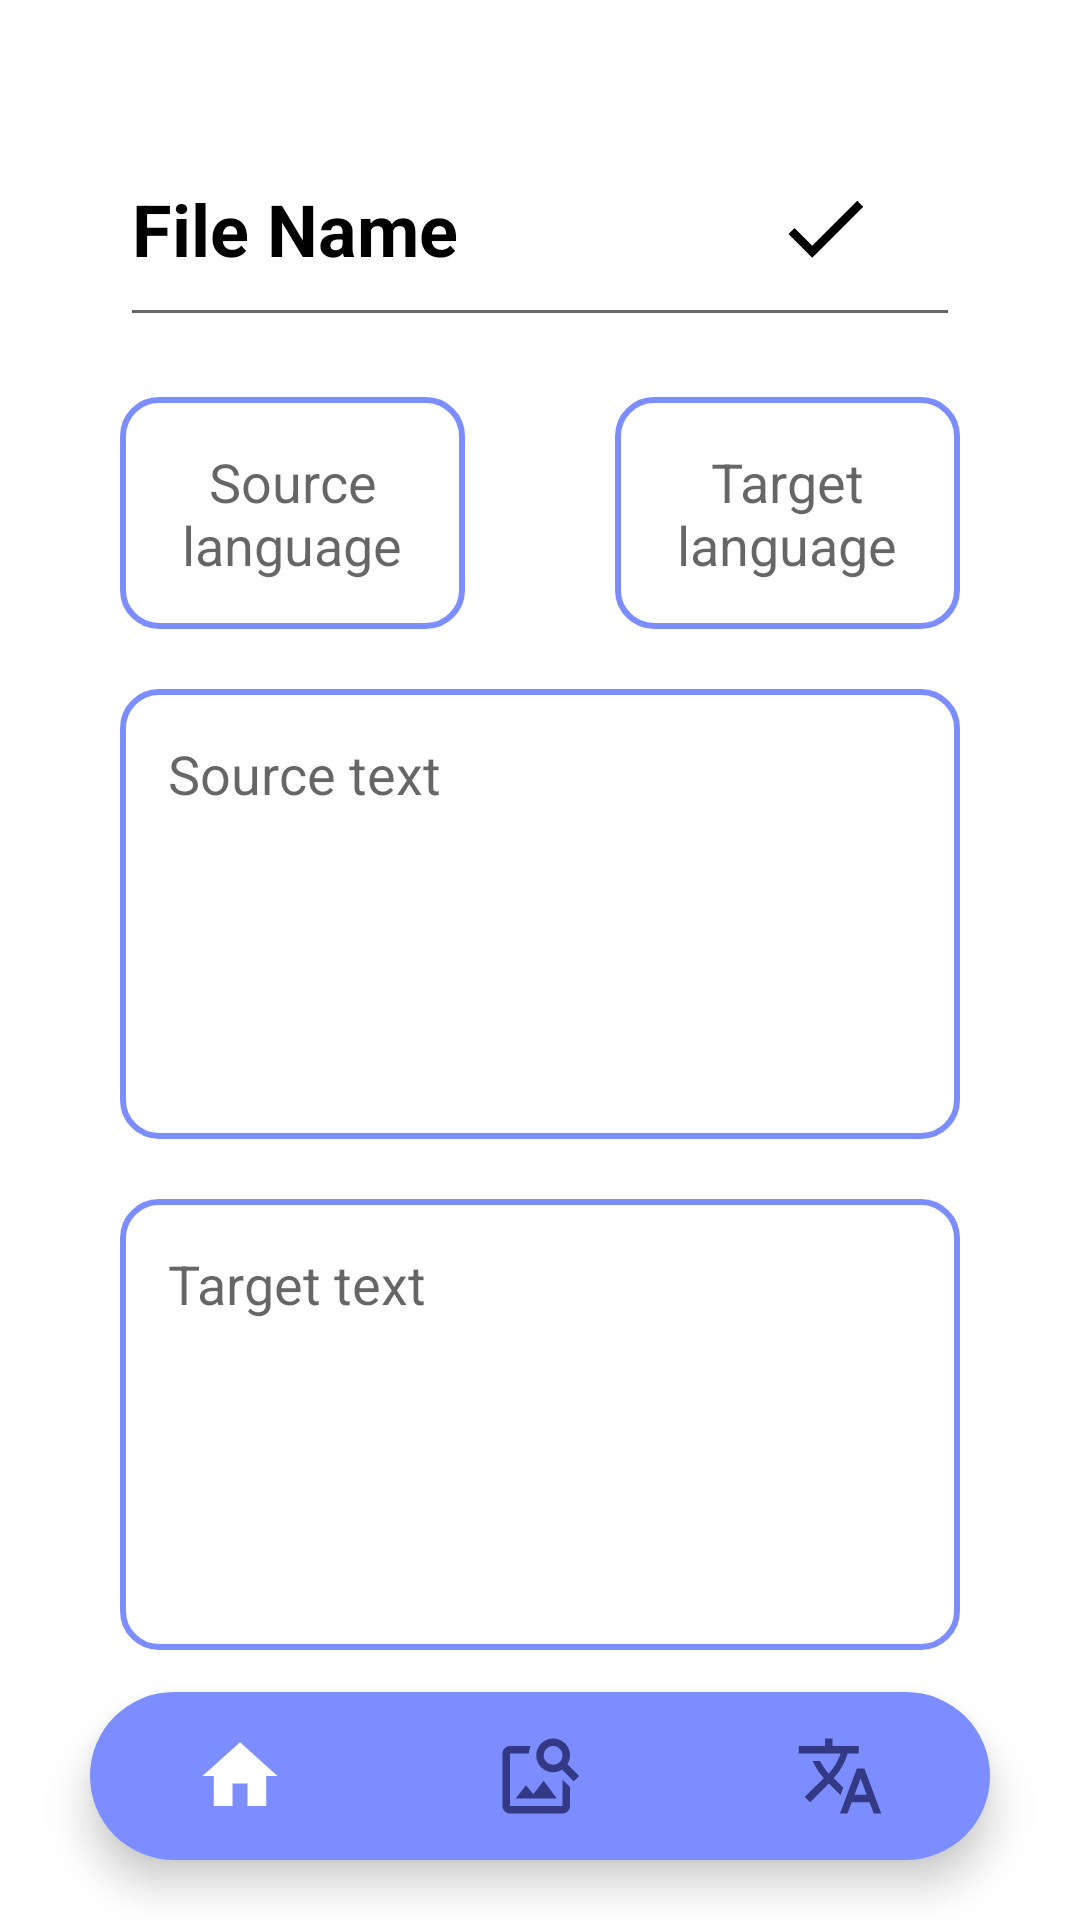

Point at icon controls on the screen. Image size 1080px x 1920px, points as (x=x, y=y).
check: (x=825, y=229)
